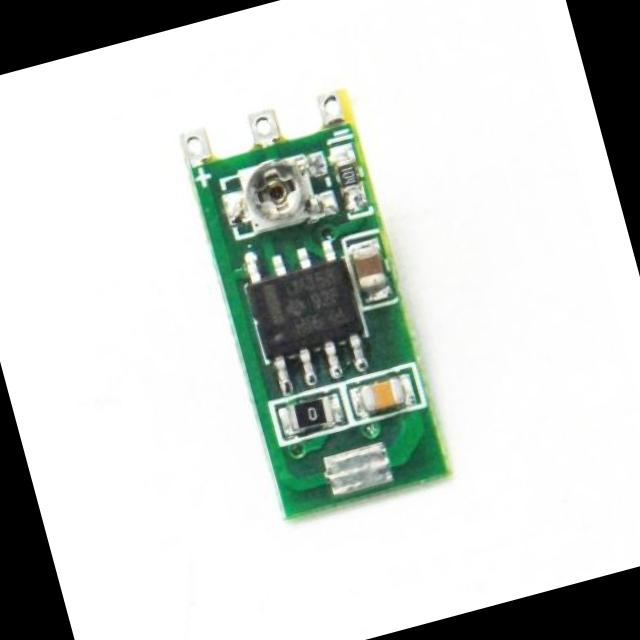IC: (232, 245, 377, 383)
capacitor: (340, 225, 402, 316), (348, 372, 416, 417)
potentiometer: (210, 140, 342, 246)
resistor: (328, 138, 367, 205), (274, 396, 328, 436)
